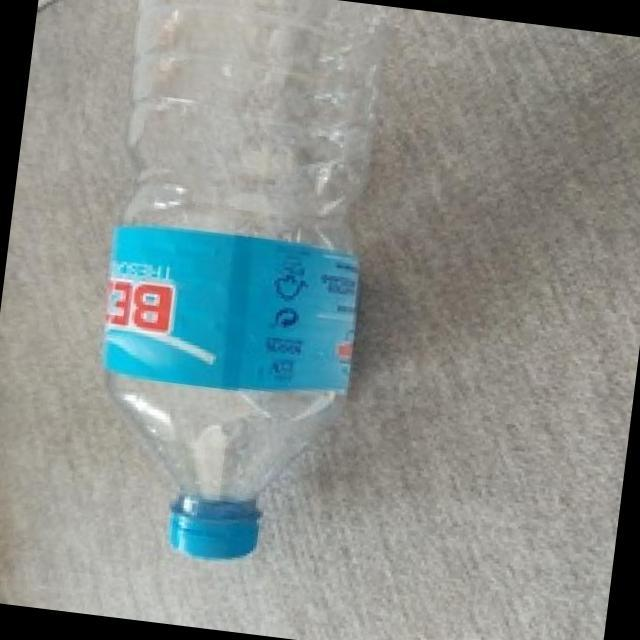good: (56, 0, 432, 581)
